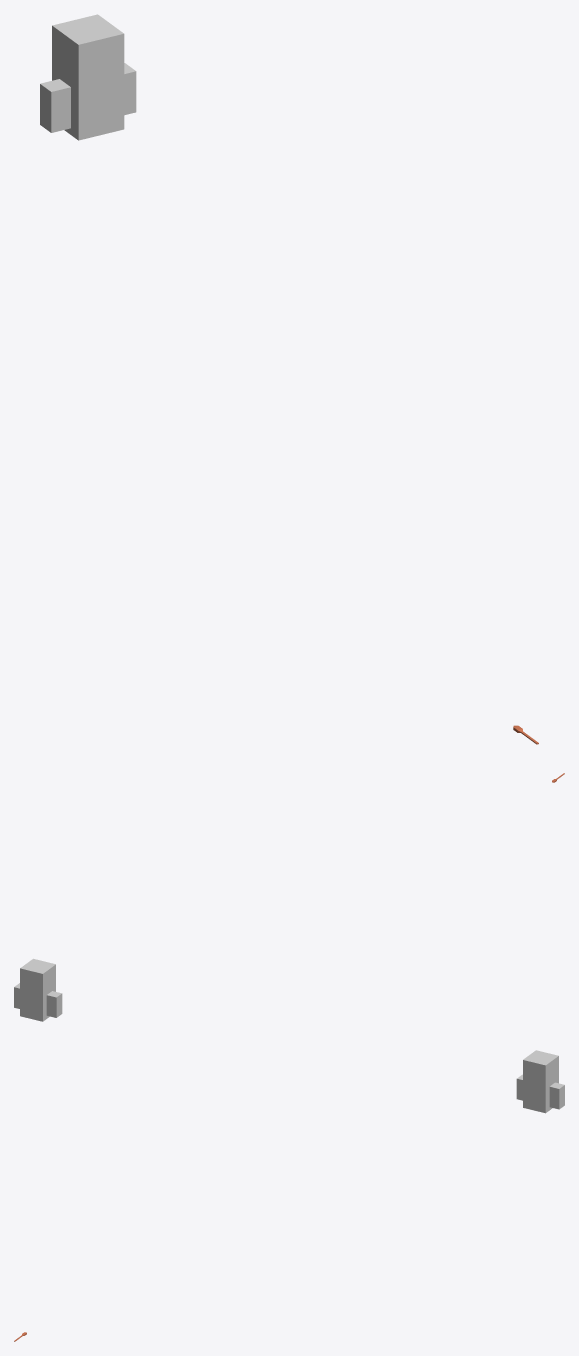
Rendered from wader.glb.
3 renders of one model, top to bottom at view 1: azimuth 30°, elevation 25°; view 2: azimuth 150°, elevation 25°; view 3: azimuth 330°, elevation 25°, orthographic. The views are drawn at different scales.
Size of the model in its own units: 19.7 by 5.2 by 75.24.
